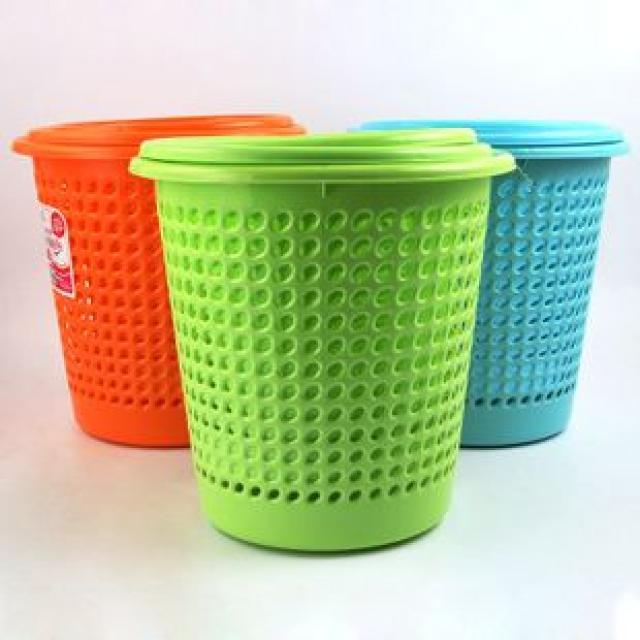dustbin: (127, 126, 517, 565), (7, 108, 316, 460), (344, 109, 629, 450)
